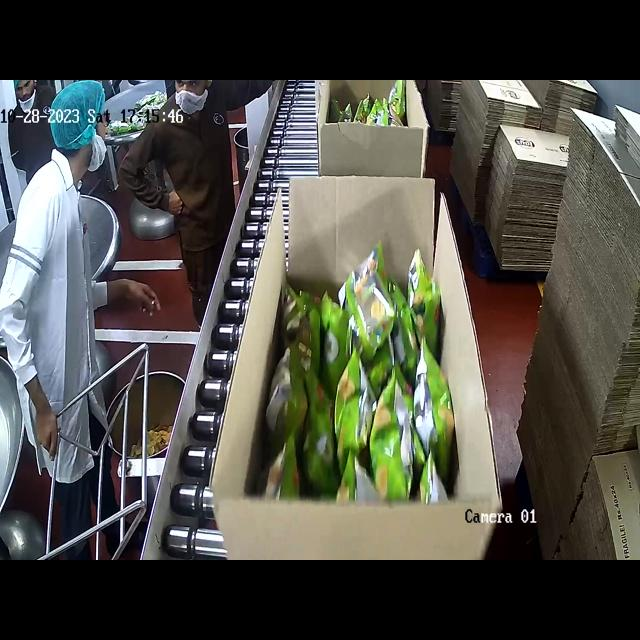yogurt: (262, 240, 457, 505), (344, 89, 403, 127)
